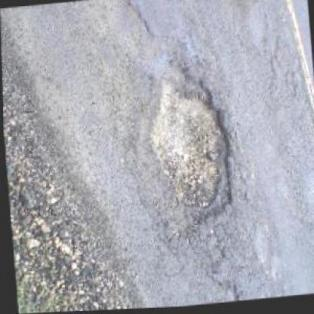Hueco: (136, 57, 240, 238)
